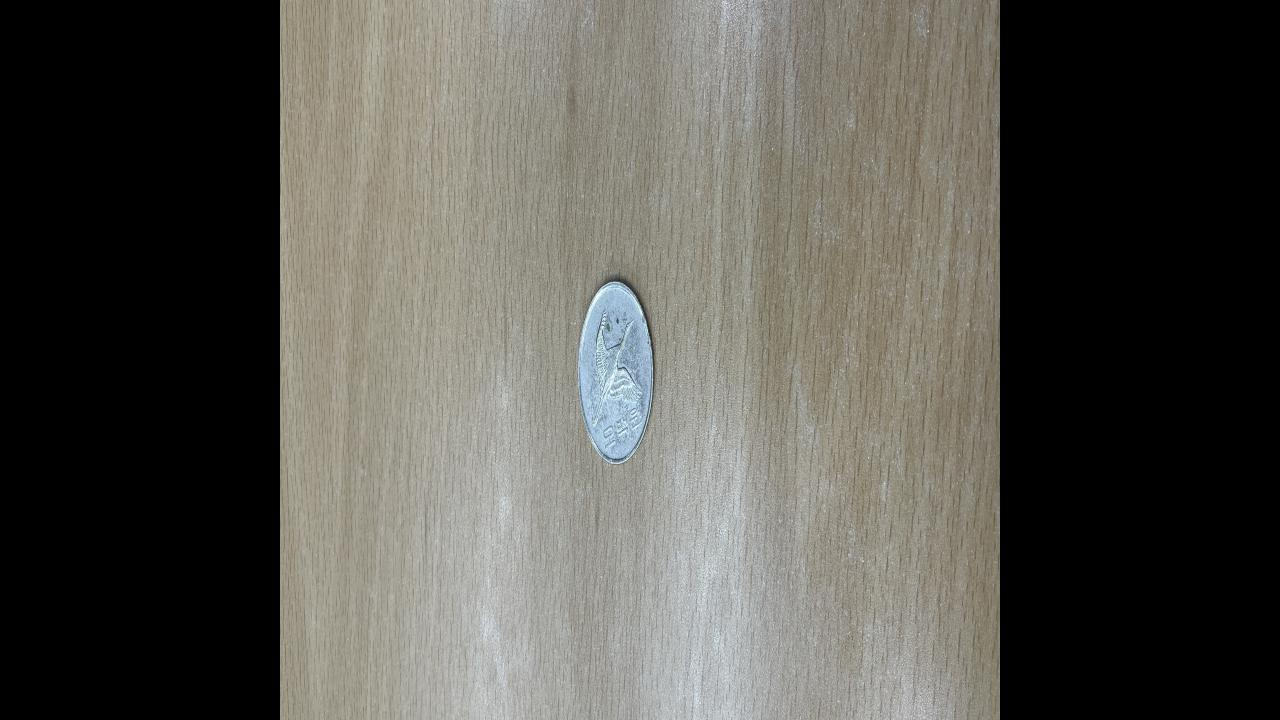coin: (578, 278, 654, 468)
